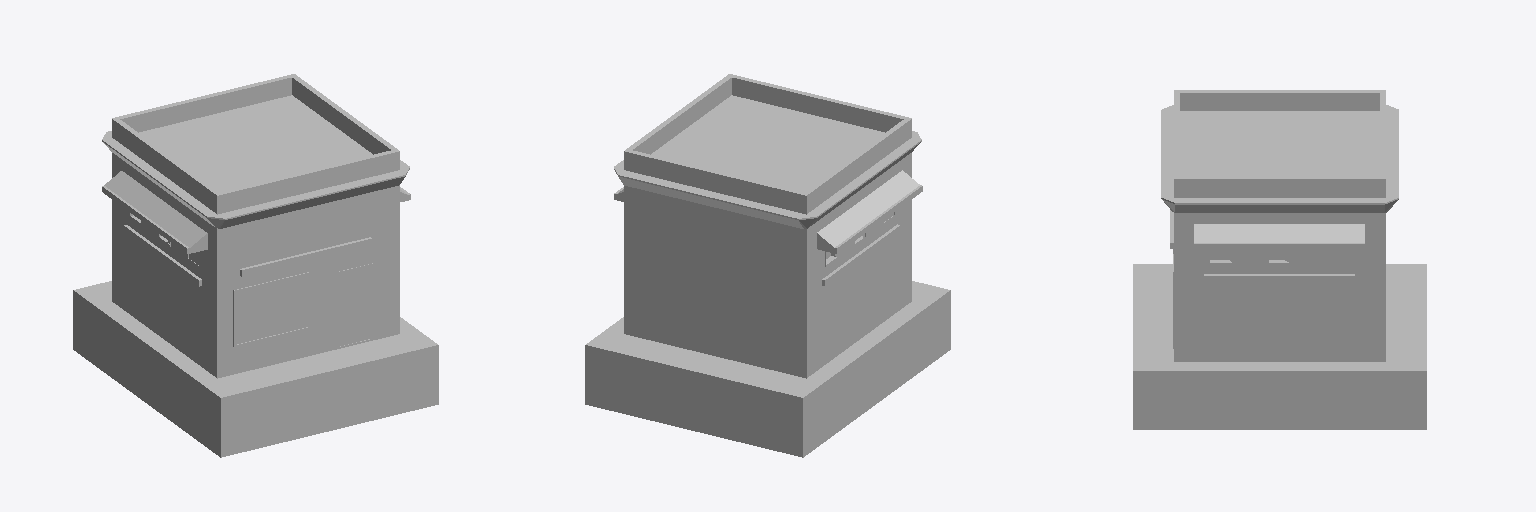
File: GeneratorShed2.obj
3 renders of one model, left to right at view 1: azimuth 30°, elevation 25°; view 2: azimuth 150°, elevation 25°; view 3: azimuth 270°, elevation 25°, orthographic.
Parts seen in each view (by area): view 1: Cube.001_Cube.002, Cube.002_Cube.004, Cube.007_Cube.009, Cube.003_Cube.000, Cube.014_Cube.017; view 2: Cube.001_Cube.002, Cube.002_Cube.004, Cube.003_Cube.000; view 3: Cube.001_Cube.002, Cube.011_Cube.013, Cube.013_Cube.015.
Boxes of the visible parts, <box> form: Cube.001_Cube.002: <box>73,74,438,457</box>; Cube.002_Cube.004: <box>102,171,207,253</box>; Cube.007_Cube.009: <box>240,237,371,276</box>; Cube.003_Cube.000: <box>124,225,201,286</box>; Cube.014_Cube.017: <box>233,272,309,347</box>; Cube.001_Cube.002: <box>585,74,950,457</box>; Cube.002_Cube.004: <box>817,170,922,253</box>; Cube.003_Cube.000: <box>822,224,900,285</box>; Cube.001_Cube.002: <box>1133,90,1426,429</box>; Cube.011_Cube.013: <box>1194,224,1364,249</box>; Cube.013_Cube.015: <box>1204,274,1354,281</box>.
Size of the model in its own units: 12.17 by 12.63 by 13.92.